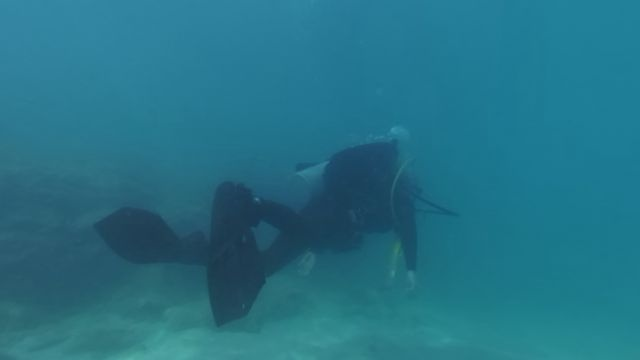Diver: (89, 126, 461, 331)
Hand: (397, 266, 424, 301)
